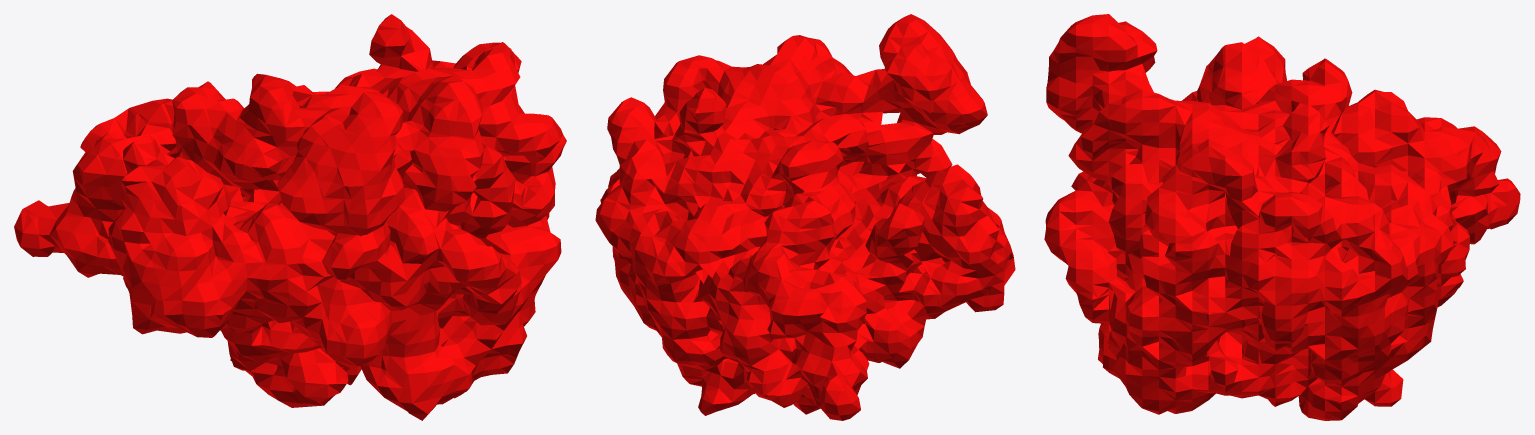
File: hflX_coarse.dae
The picture shows the model from 3 angles, left to right: view 1: azimuth 30°, elevation 25°; view 2: azimuth 150°, elevation 25°; view 3: azimuth 270°, elevation 25°; orthographic projection. The views are drawn at different scales.
Visible parts, largest first — view 1: hflX; view 2: hflX; view 3: hflX.
Boxes of the visible parts, <box> form: hflX: <box>14,14,566,420</box>; hflX: <box>595,14,1015,420</box>; hflX: <box>1044,14,1520,420</box>.
Size of the model in its own units: 222 by 193 by 227.
